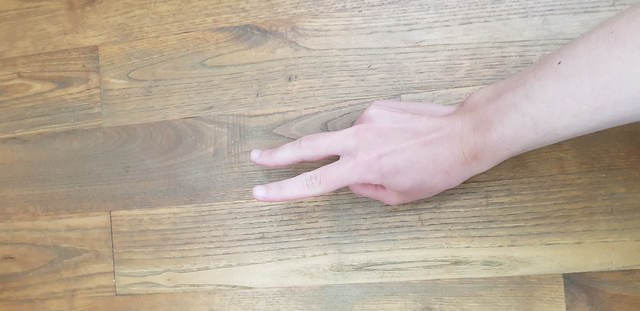Scissors: (227, 82, 494, 223)
